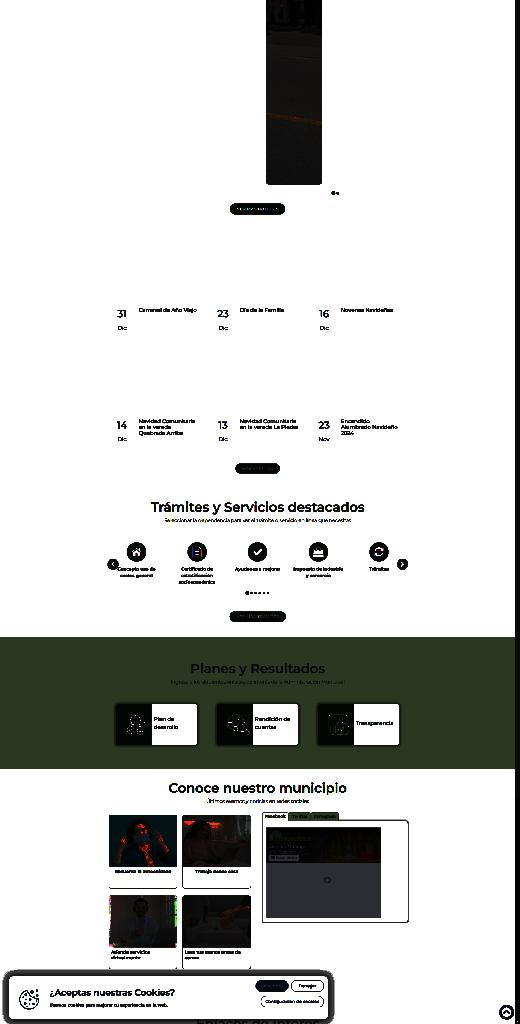btn noticias: (230, 202, 286, 214)
btn tramites: (230, 612, 288, 622)
btn volver arriba: (500, 1004, 514, 1020)
